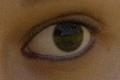eye: (52, 24, 84, 52)
